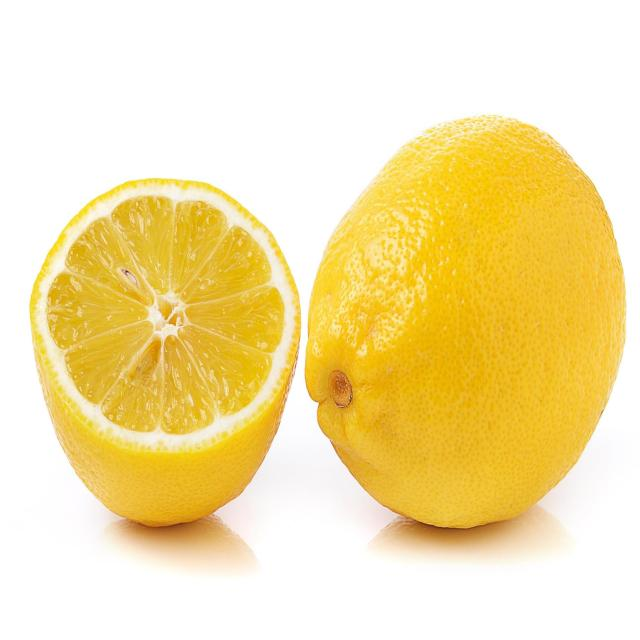lemon: (295, 100, 635, 539), (25, 165, 310, 533)
